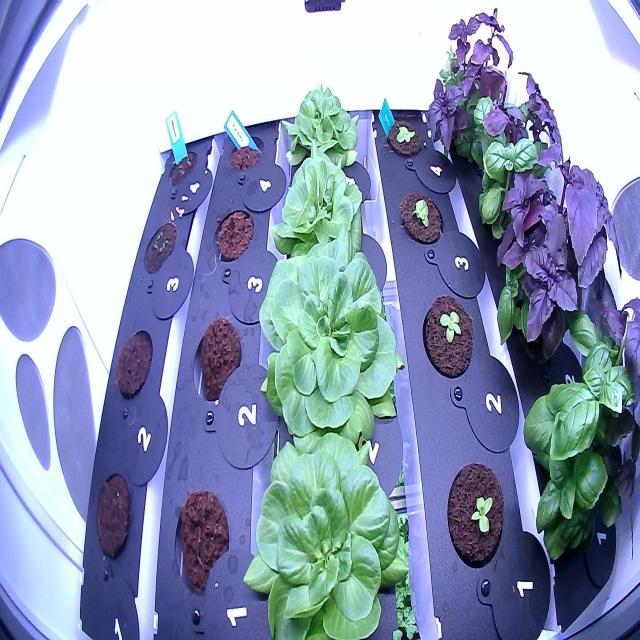germination: (138, 218, 181, 280), (166, 136, 203, 193)
pod: (168, 486, 236, 602), (190, 310, 246, 414), (90, 460, 138, 568), (108, 322, 156, 410), (212, 201, 258, 267), (228, 130, 266, 176)
young: (235, 417, 419, 639), (247, 231, 407, 455), (266, 146, 372, 268), (277, 75, 365, 177), (444, 454, 510, 577), (419, 284, 478, 382), (394, 186, 446, 256), (385, 108, 425, 166)
